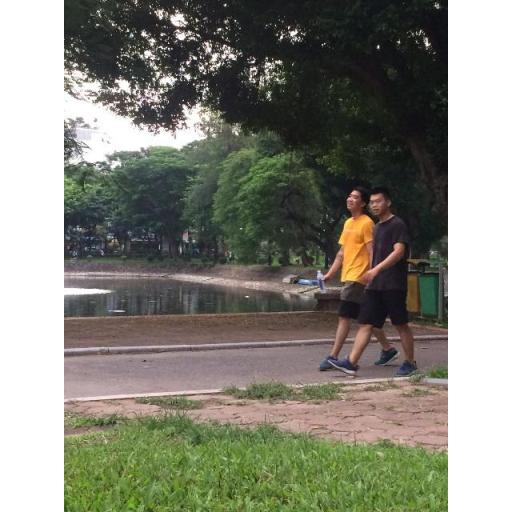Running: (332, 184, 418, 378)
